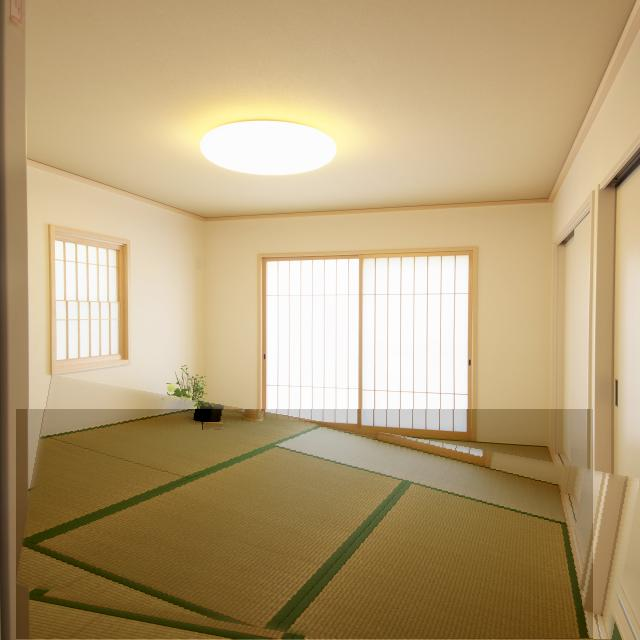floor: (16, 410, 593, 639), (203, 424, 223, 430)
